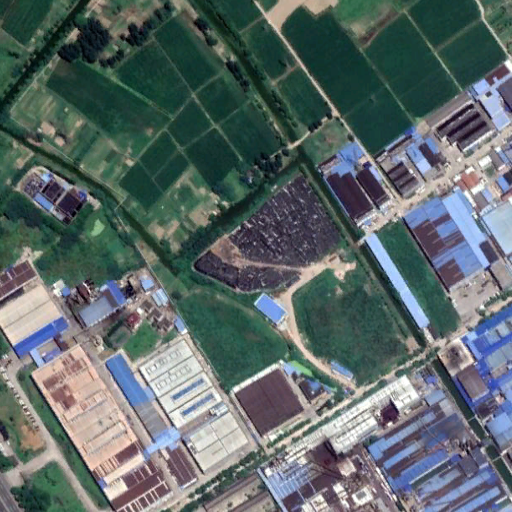lf: (191, 176, 351, 294)
